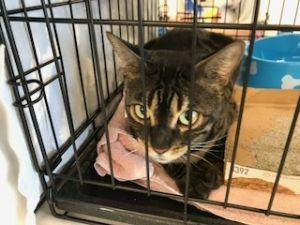bengal: (92, 13, 250, 178)
